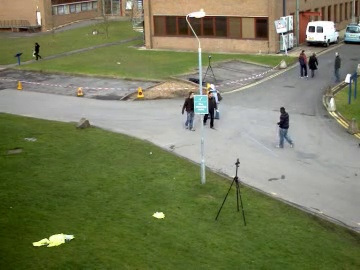person: (182, 90, 196, 132), (181, 90, 195, 130), (182, 90, 196, 130)
